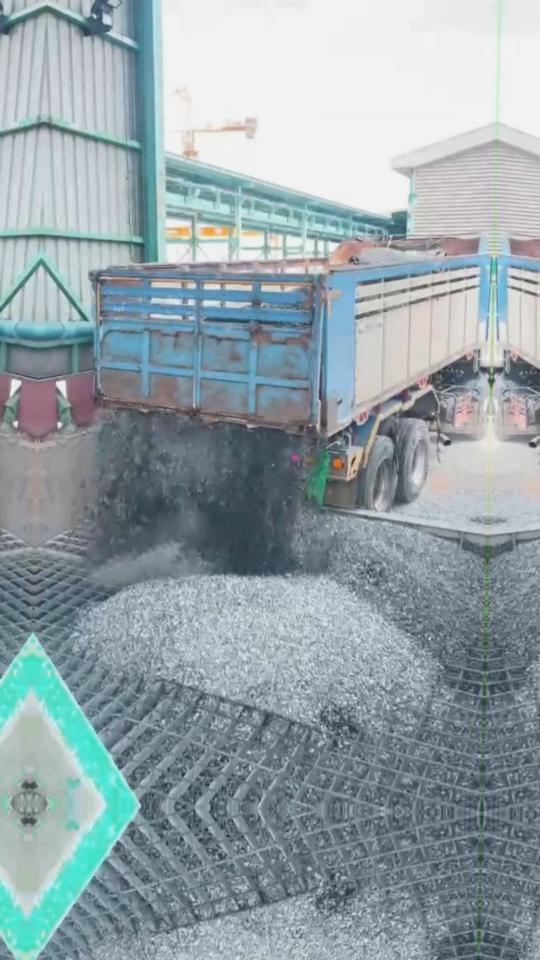gravel: (74, 574, 438, 732), (90, 412, 300, 592), (306, 514, 485, 664)
